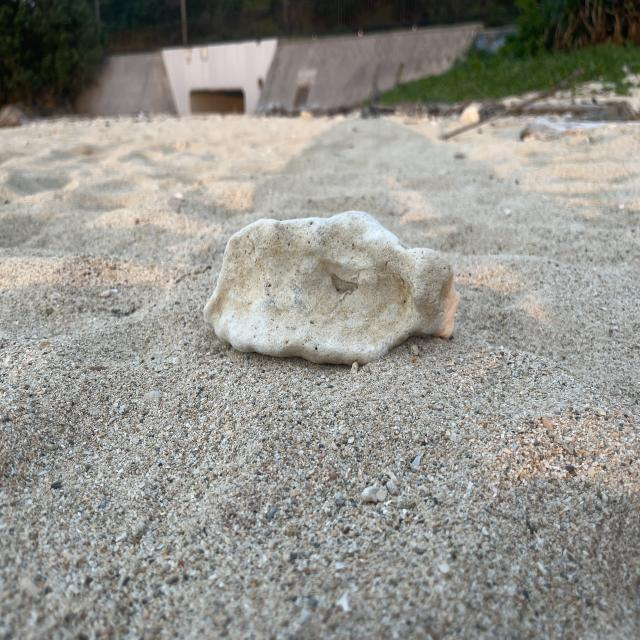rock: (200, 201, 460, 377)
